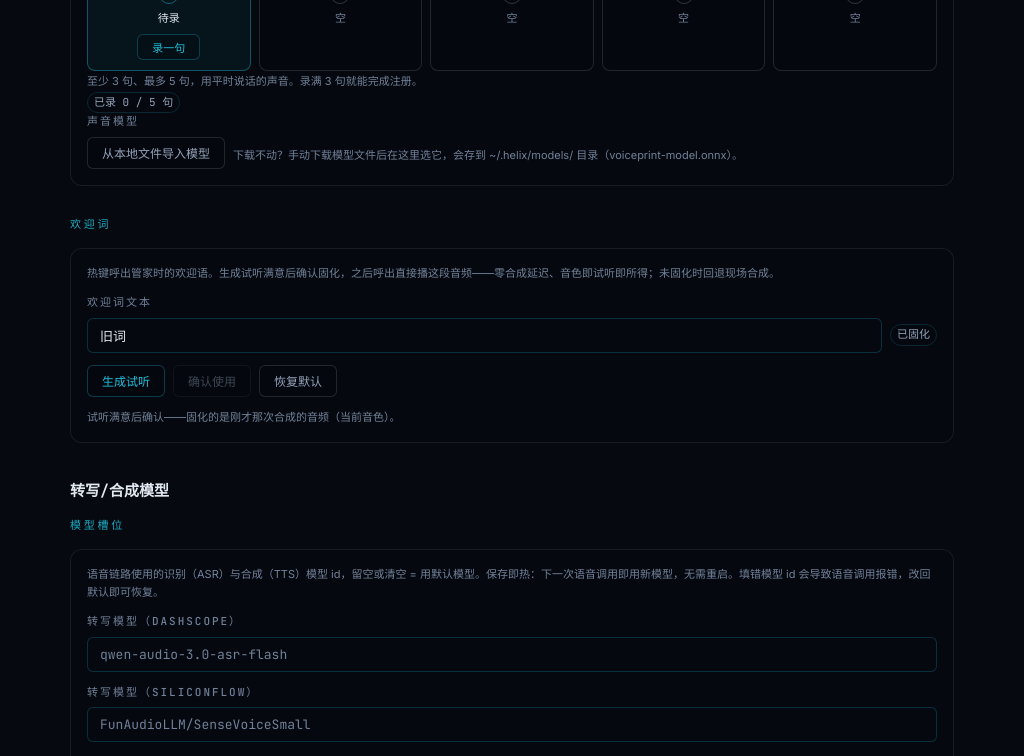
欢迎词工坊（生成试听 → 确认固化 → 恢复默认） › 恢复默认：清固化（read 回 null）+ chip 未固化 + 文本清空
(page scrolled)
Click the button "恢复默认": (298, 381) x1=259 y1=365 x2=337 y2=397
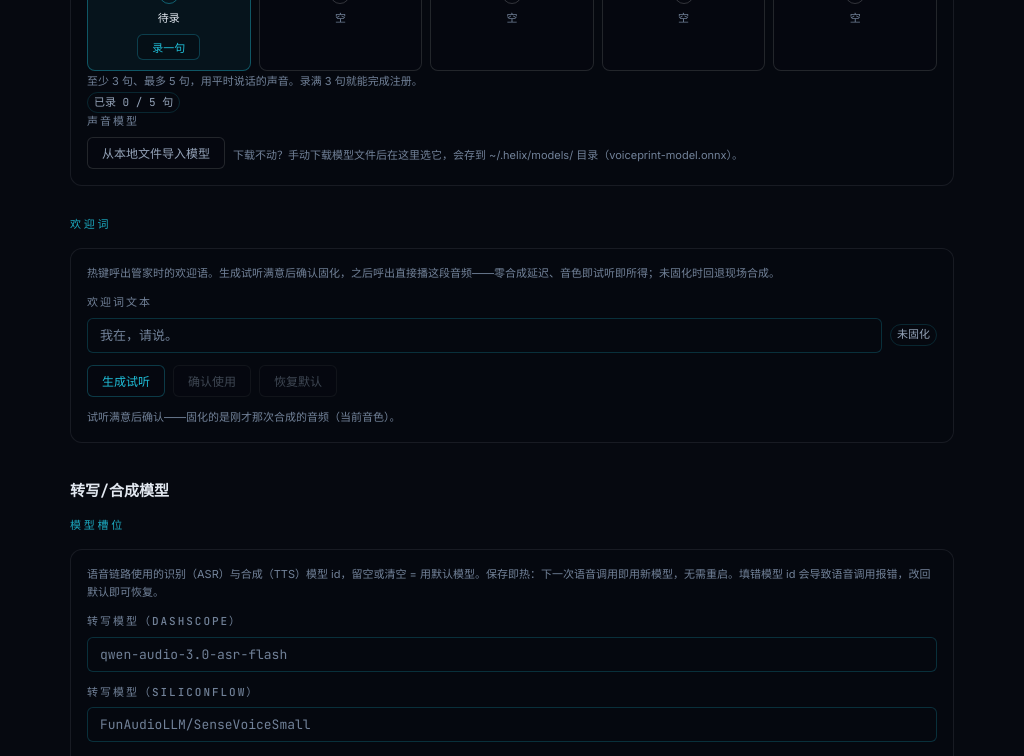
Now the field with id "tts-welcome-text" is empty, box x1=87 y1=318 x2=882 y2=353
